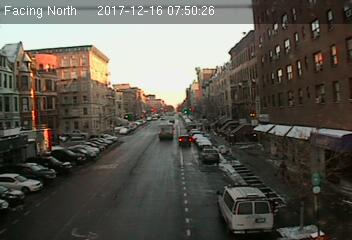car: (200, 148, 218, 163), (178, 134, 192, 147)
pedestrian: (278, 159, 290, 183)
police: (216, 182, 275, 237)
truck: (157, 122, 174, 140)
